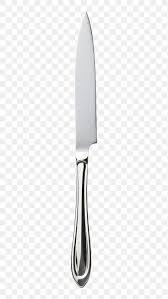Knife: (70, 10, 97, 287)
